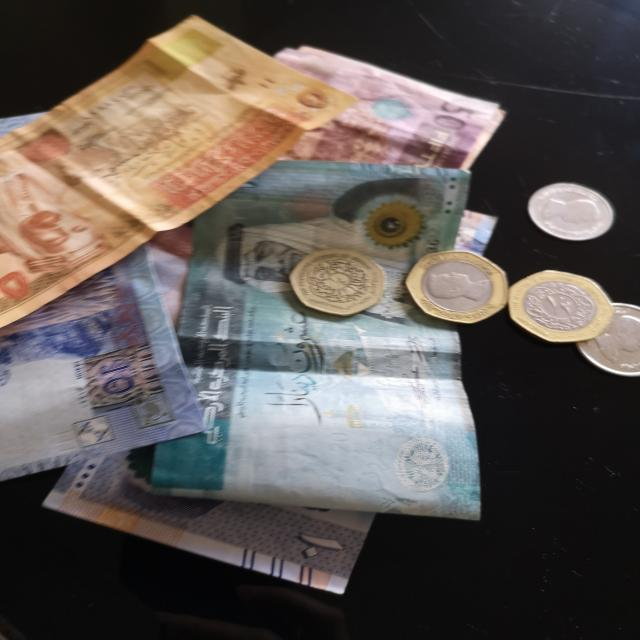10-coins: (576, 303, 640, 377)
10-dinar: (43, 443, 378, 594), (0, 241, 207, 483)
20-dinar: (152, 161, 480, 520)
25-coins: (289, 249, 384, 316)
5-coins: (528, 182, 614, 241)
5-dinar: (0, 14, 358, 327)
50-coins: (508, 270, 614, 342), (405, 250, 507, 324)
50-dinar: (272, 47, 499, 170)
